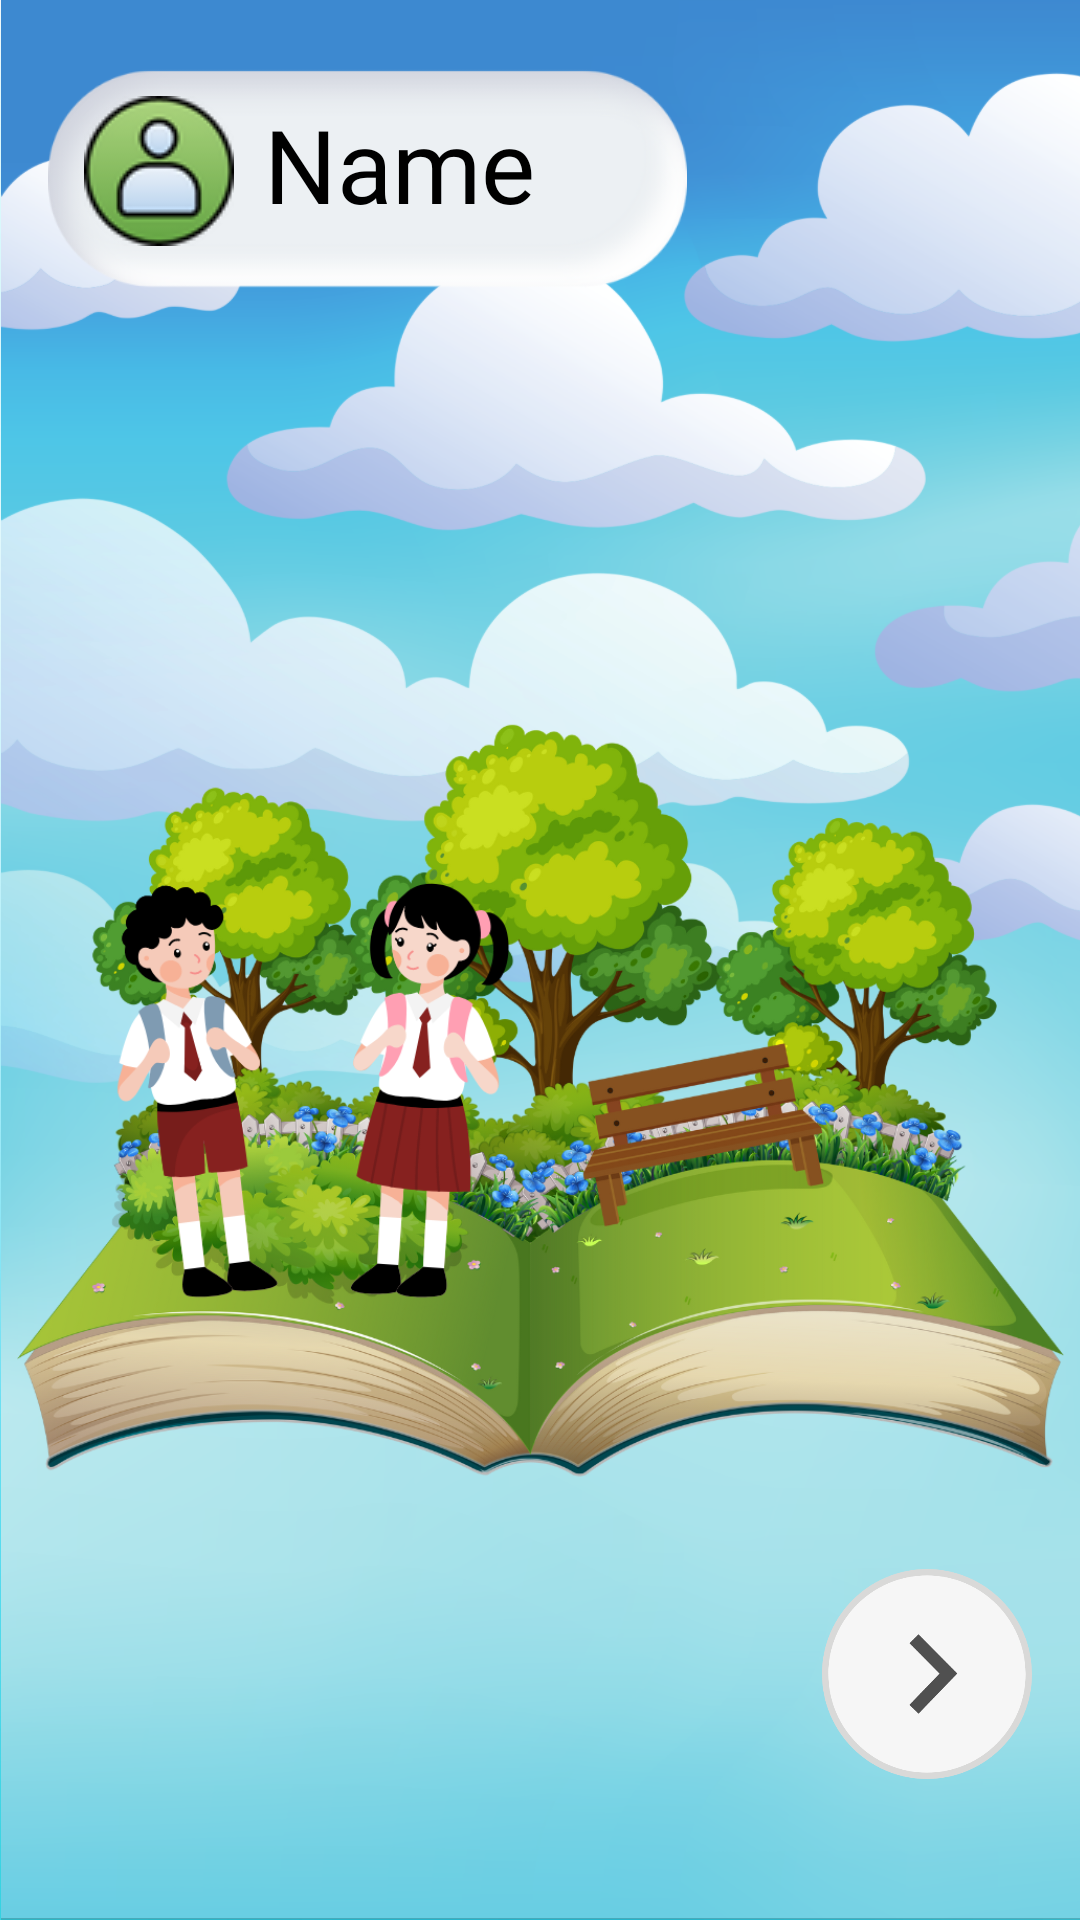

Where icons sit on this 1080×1920 app screen, as (x1, y1, x2, y2):
right: (822, 1569, 1032, 1779)
